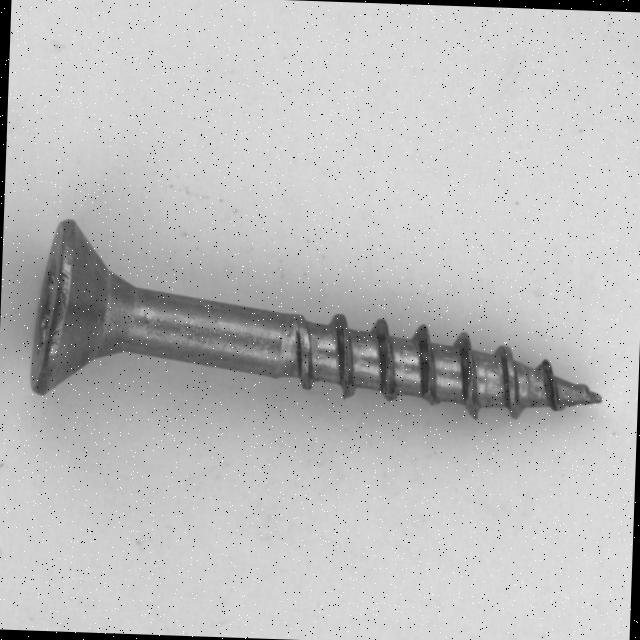thread_side: (372, 380, 402, 407), (454, 396, 482, 420), (418, 388, 442, 414)
